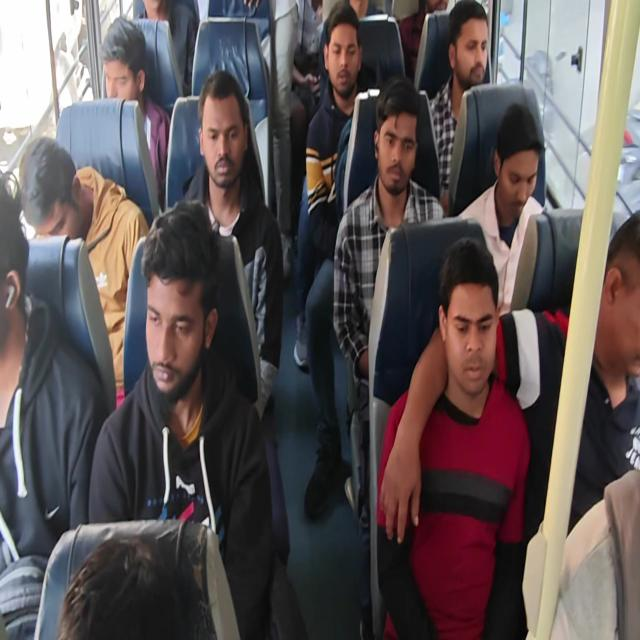person: (1, 1, 638, 638), (383, 209, 639, 547), (87, 198, 274, 638), (332, 75, 446, 635), (376, 236, 531, 638), (0, 171, 108, 638), (296, 3, 378, 519), (18, 135, 150, 410), (181, 69, 284, 420), (456, 102, 546, 316), (56, 533, 217, 639), (99, 16, 171, 210), (428, 0, 490, 212), (135, 0, 198, 95), (398, 0, 449, 81)
